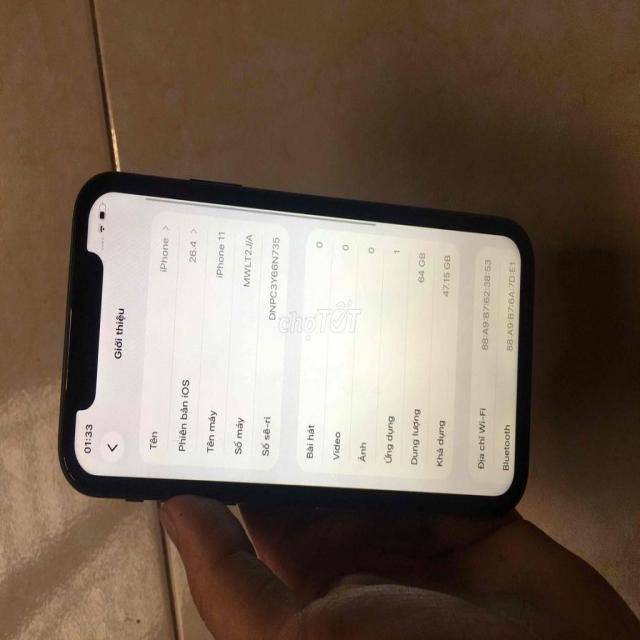gen_11: (51, 170, 535, 518)
